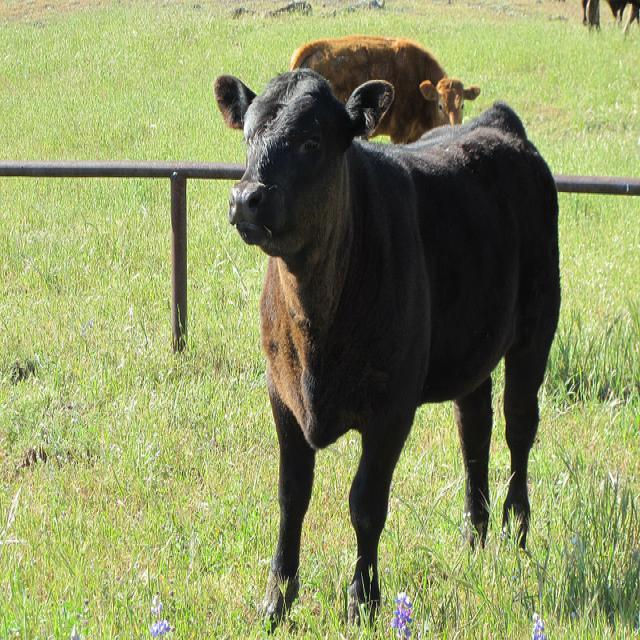cow: (216, 64, 559, 629), (286, 32, 480, 144), (579, 0, 639, 37)
